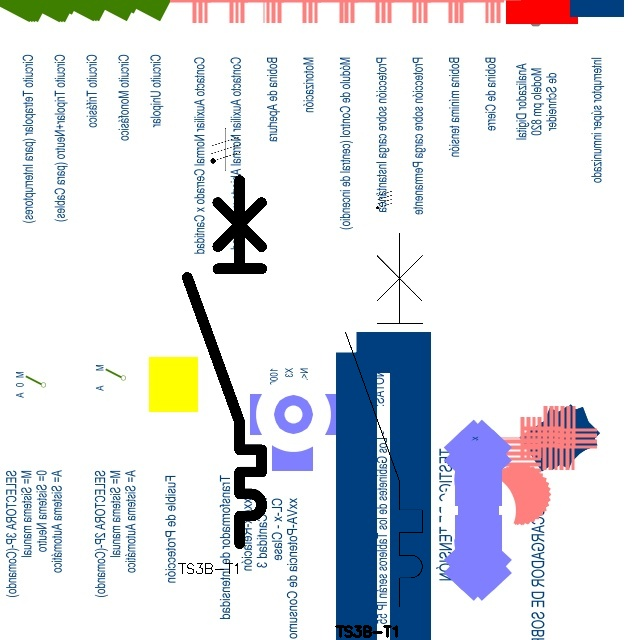interruptor_termomagnetico: (336, 223, 432, 615), (178, 171, 271, 553)
